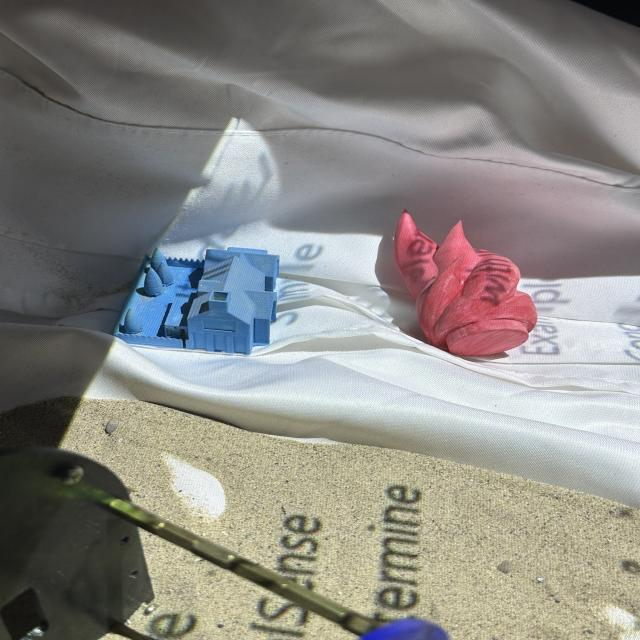fire: (394, 208, 536, 355)
house: (112, 245, 280, 356)
